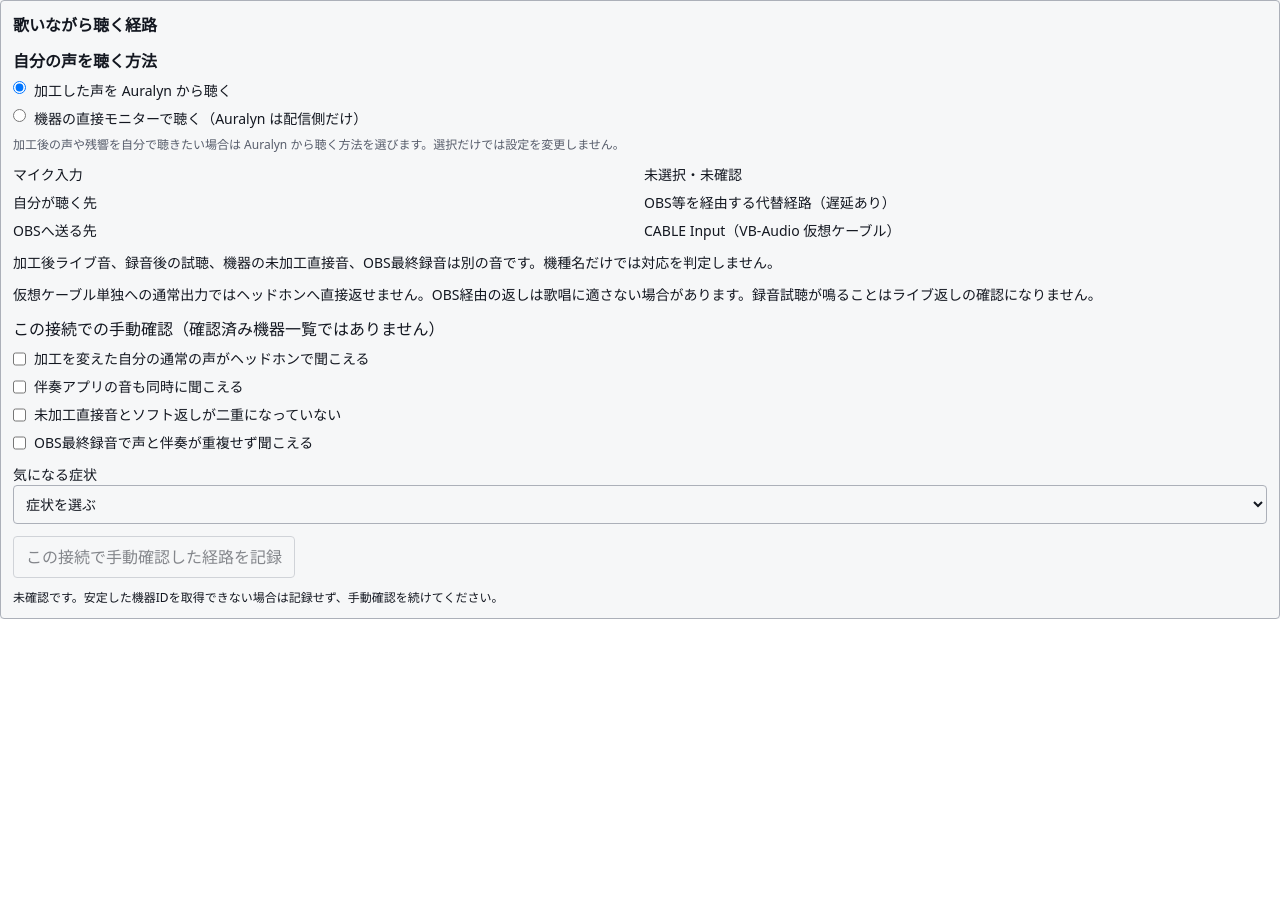
代替経路に機器loopbackの確認を要求せず、二重音声の案内を出す
Select "二重に聞こえる" in the dropdown at point(640, 504), box [13, 485, 1267, 524]
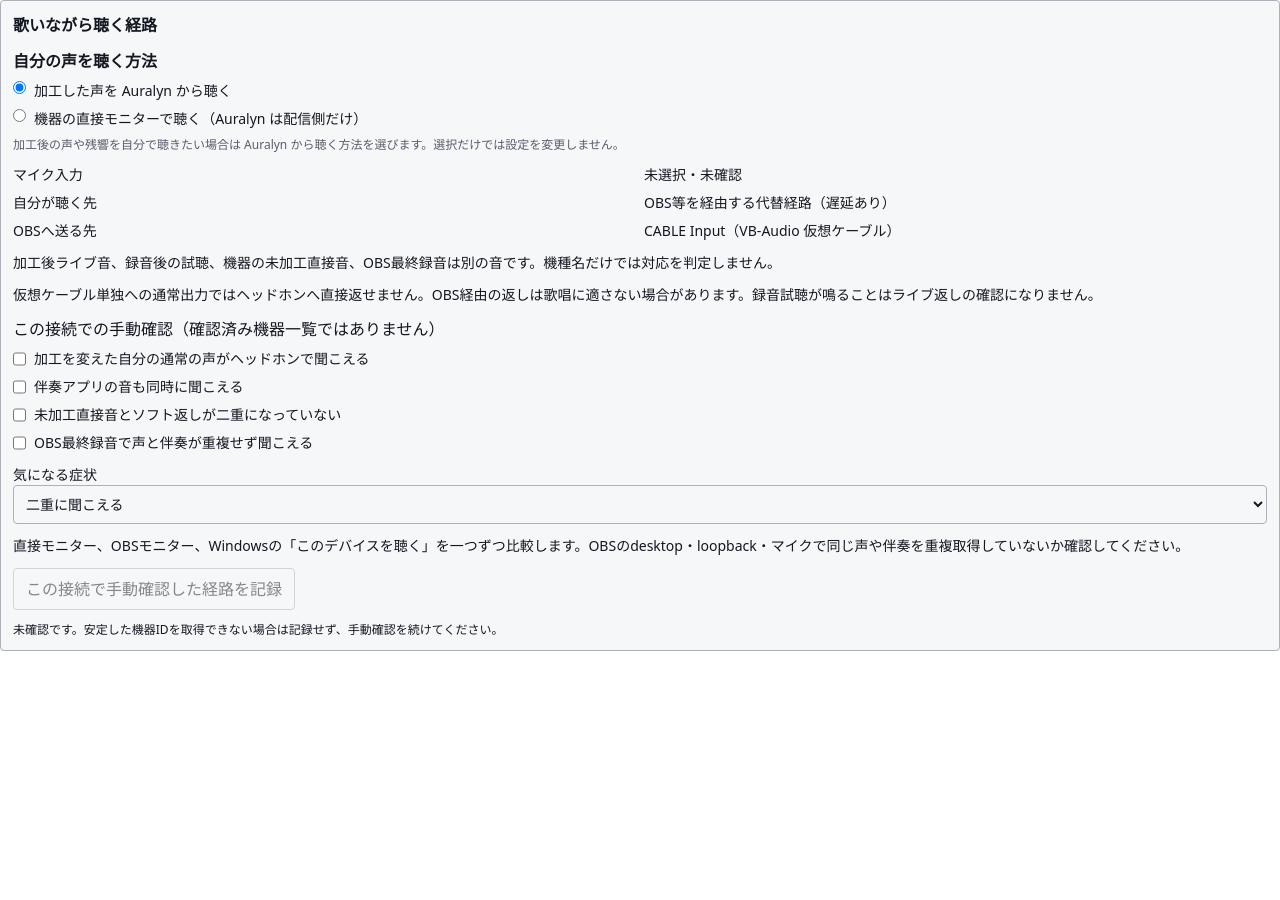
Expected: the text "直接モニター、OBSモニター" is shown, [13, 536, 1189, 555]
